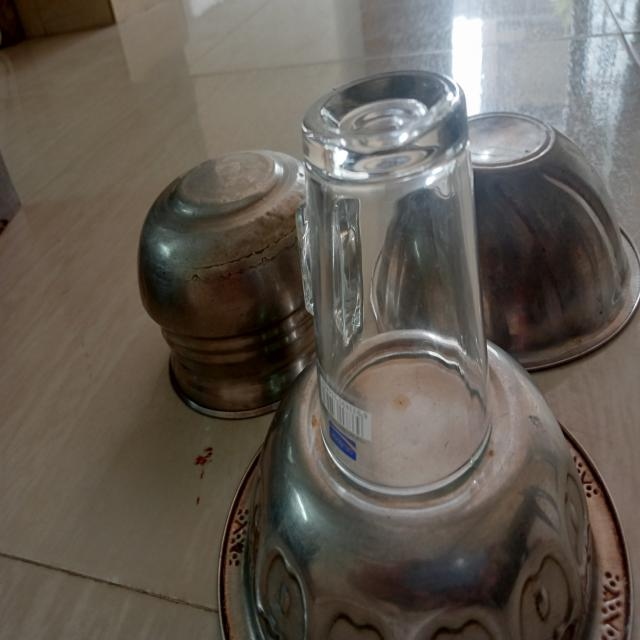glass-VX4N: (300, 67, 492, 498)
